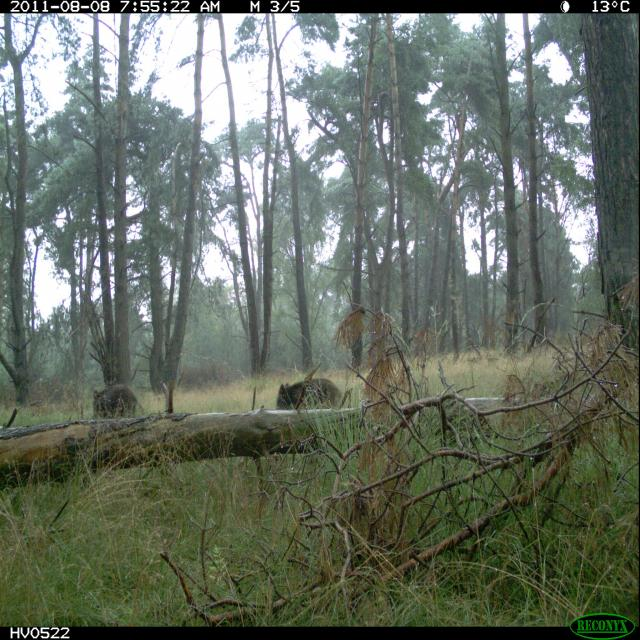boar: (267, 358, 348, 431), (89, 377, 141, 426)
